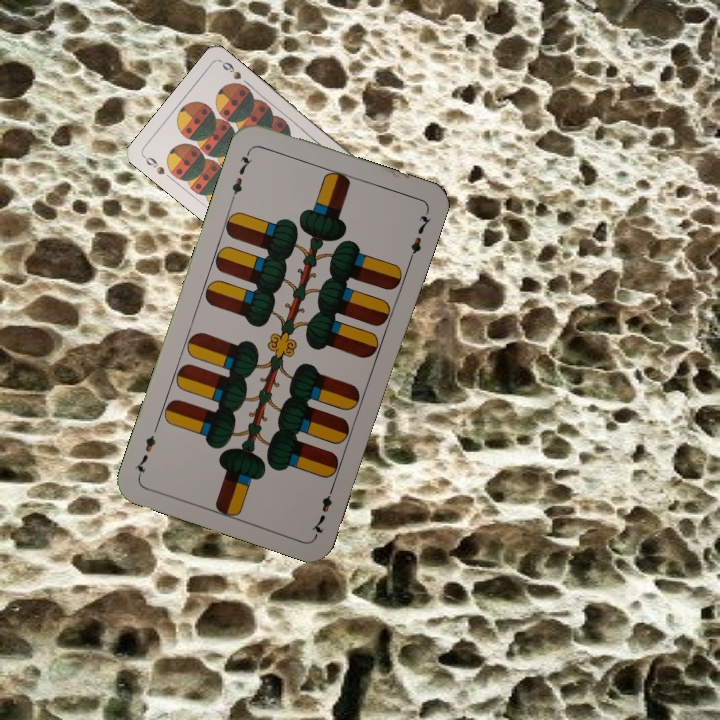E7: (307, 481, 337, 538), (227, 146, 254, 203)
S9: (139, 152, 168, 178)
